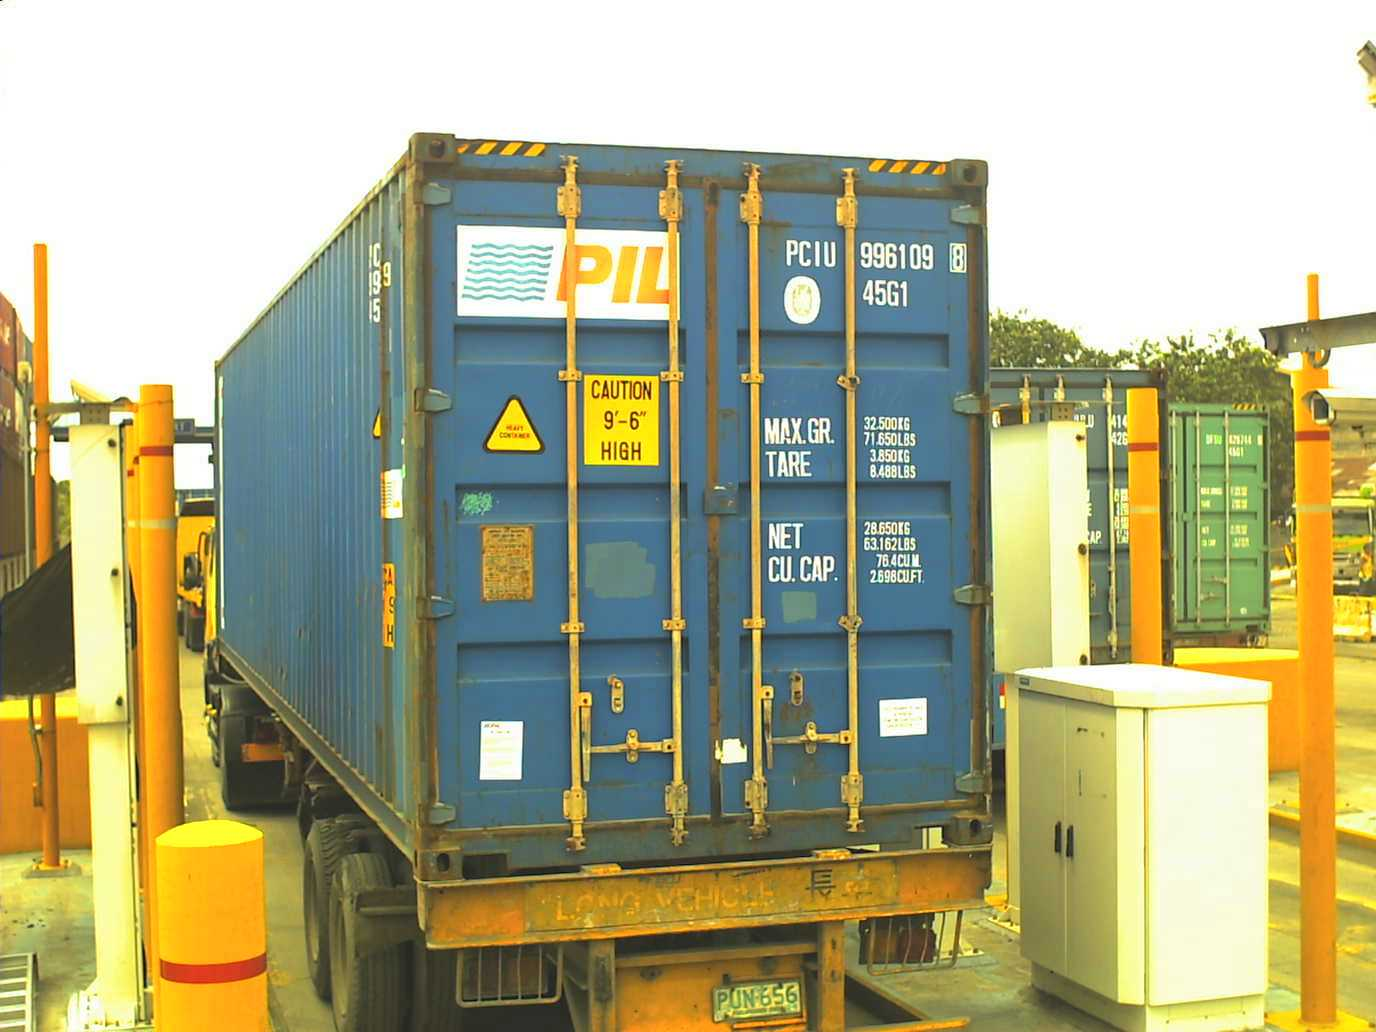container_door: (398, 132, 1002, 851)
